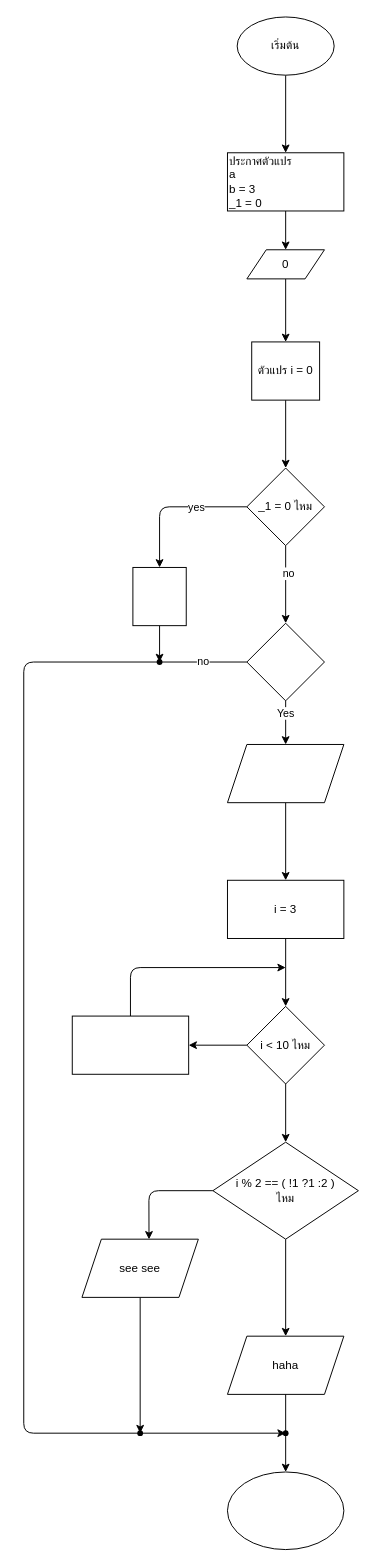
Some shapes in this 375 by 1567 pixel diagram are drawn without their labels. The shapes that lost their labels are listed below. From the top down, each one's centre as x and y in pixels, then its label:
At point (159, 596): "ok".
At point (285, 661): "i <= 5 ไหม".
At point (285, 773): "not-okay-".
At point (130, 1044): "i +1".
At point (285, 1510): "สิ้นสุด".
